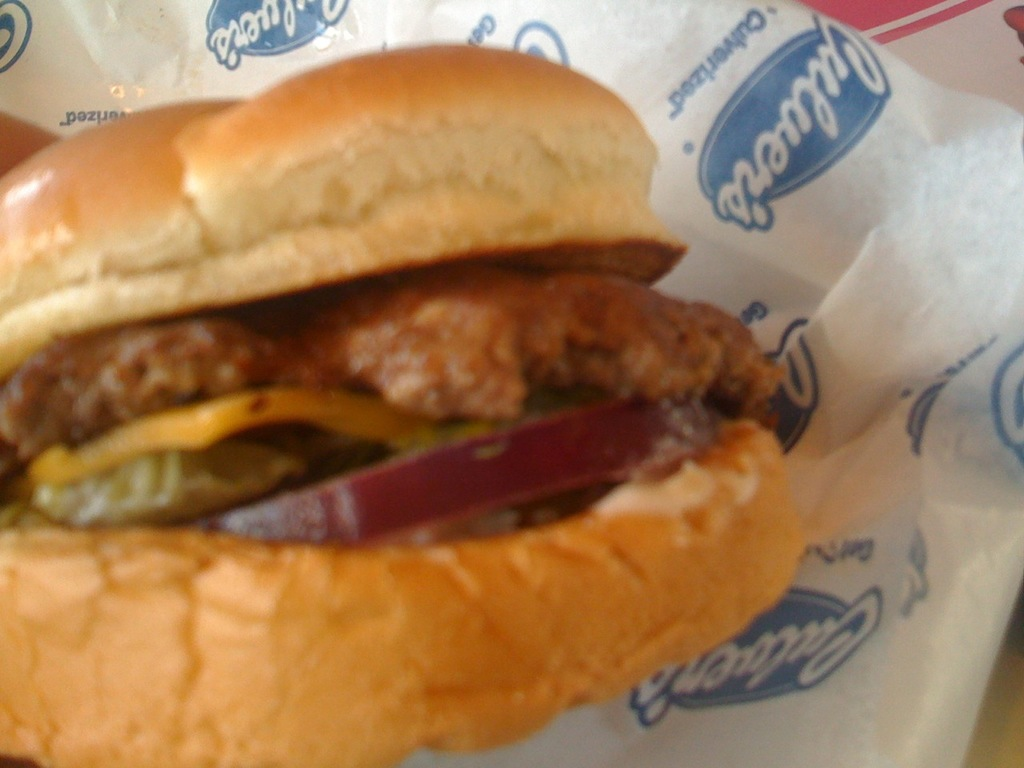Hamburger: (0, 43, 807, 767)
